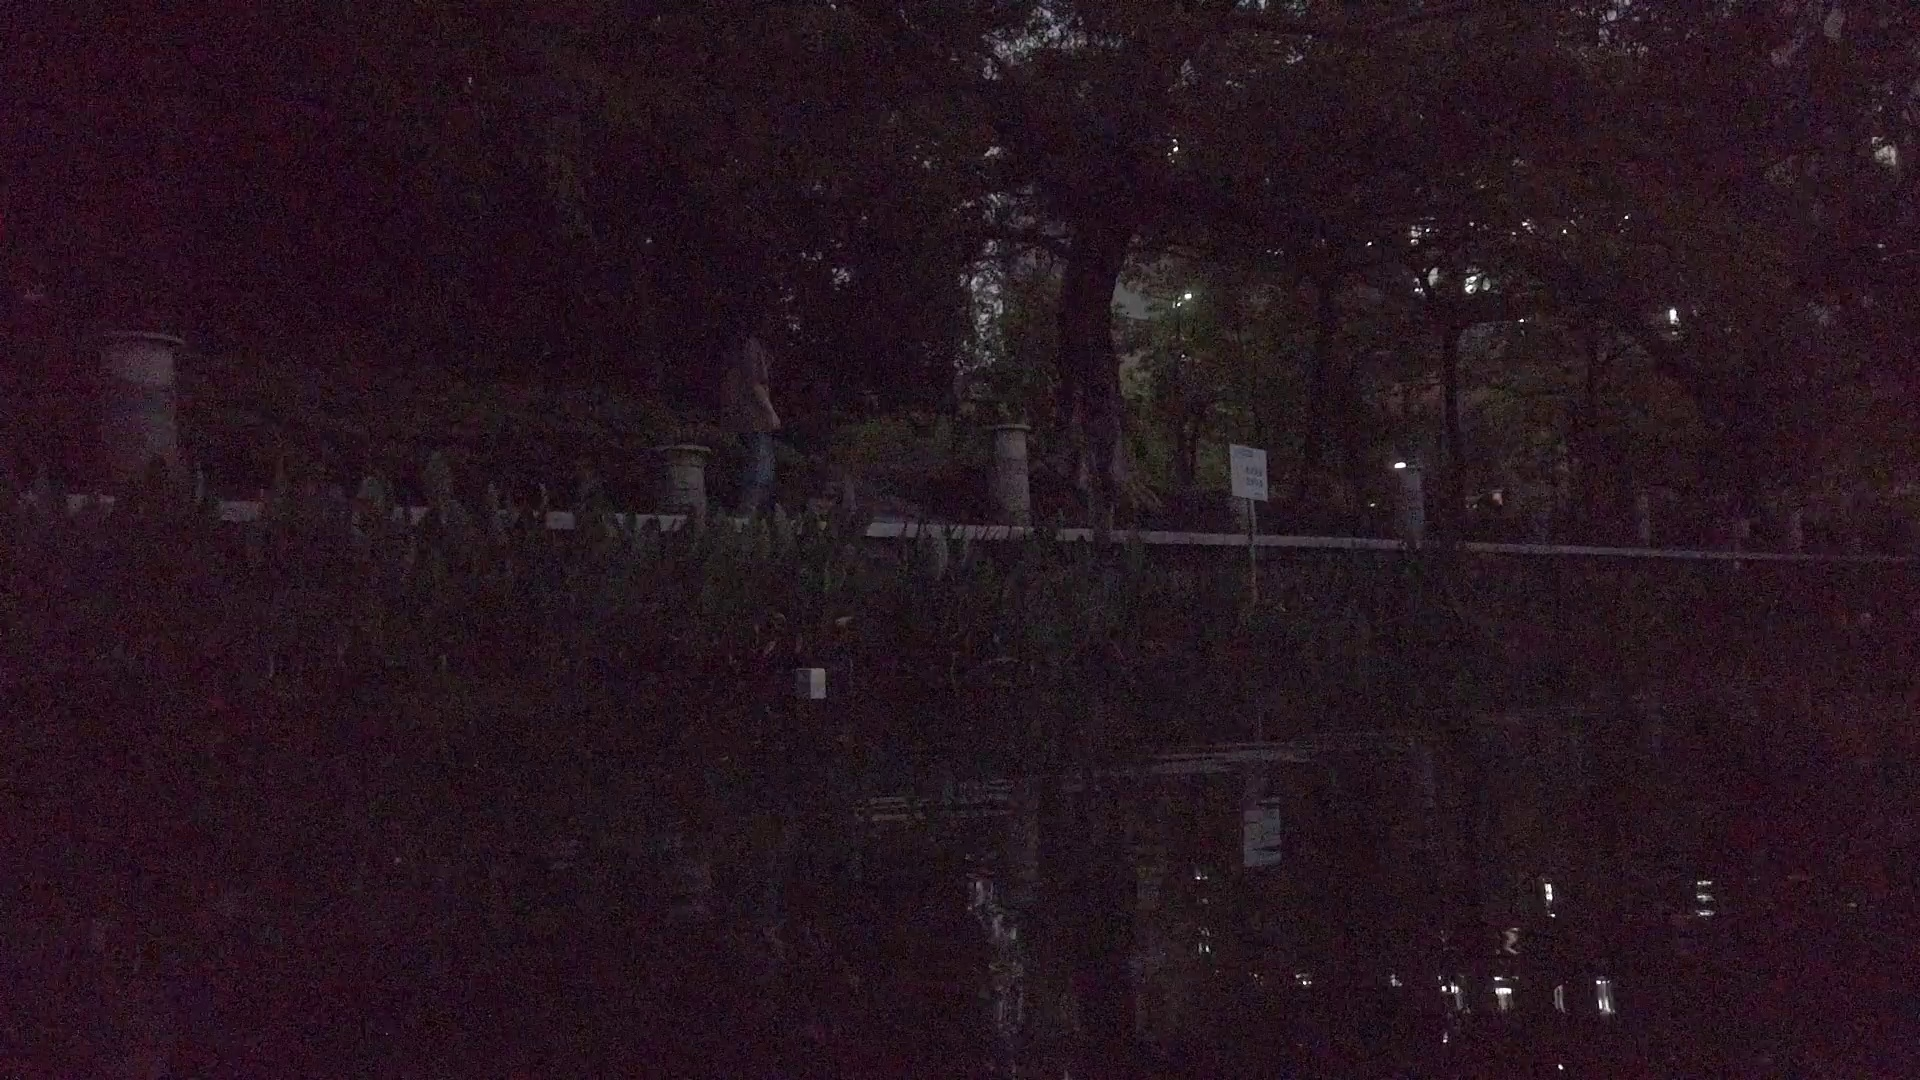carton: (796, 669, 825, 687)
